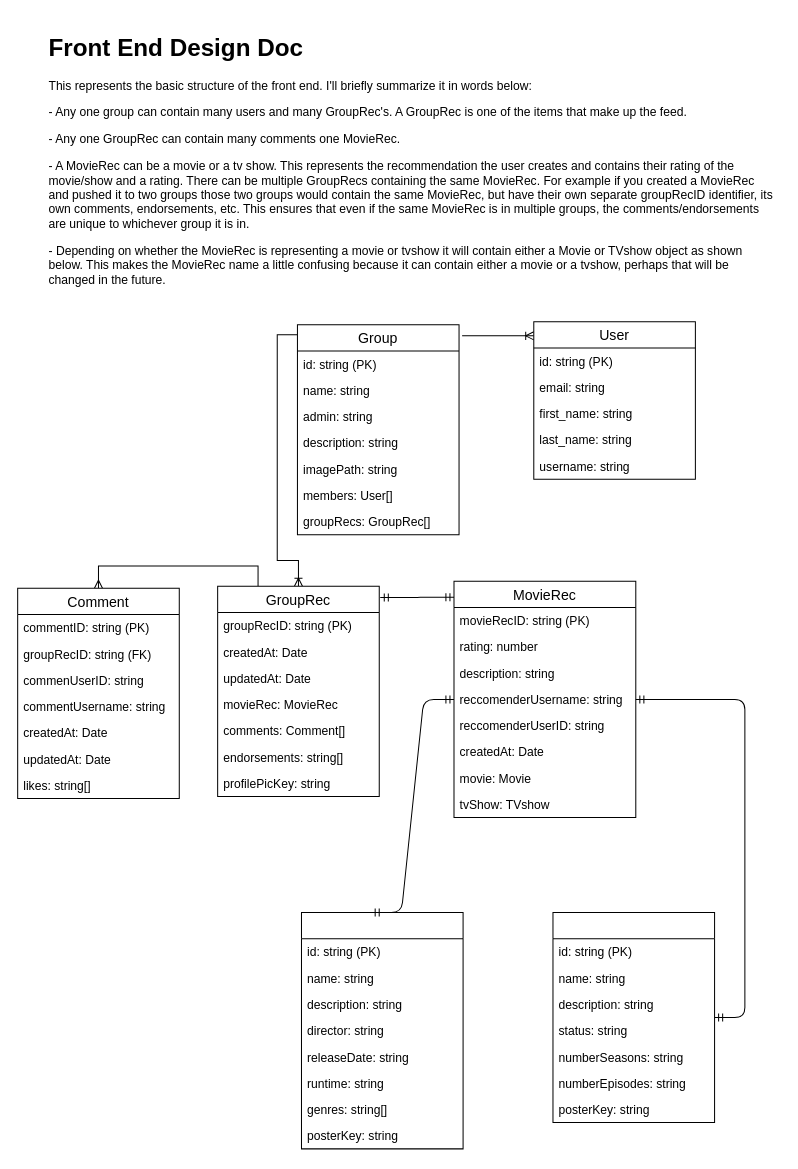
Some shapes in this 798 by 1169 pixel diagram are drawn without their labels. The shapes that lost their labels are listed below. From the top down, each one's box as (x1, y1, x2, y2) in pixels, then its label:
(300, 912, 463, 1149): Movie
(552, 912, 715, 1123): TVshow
